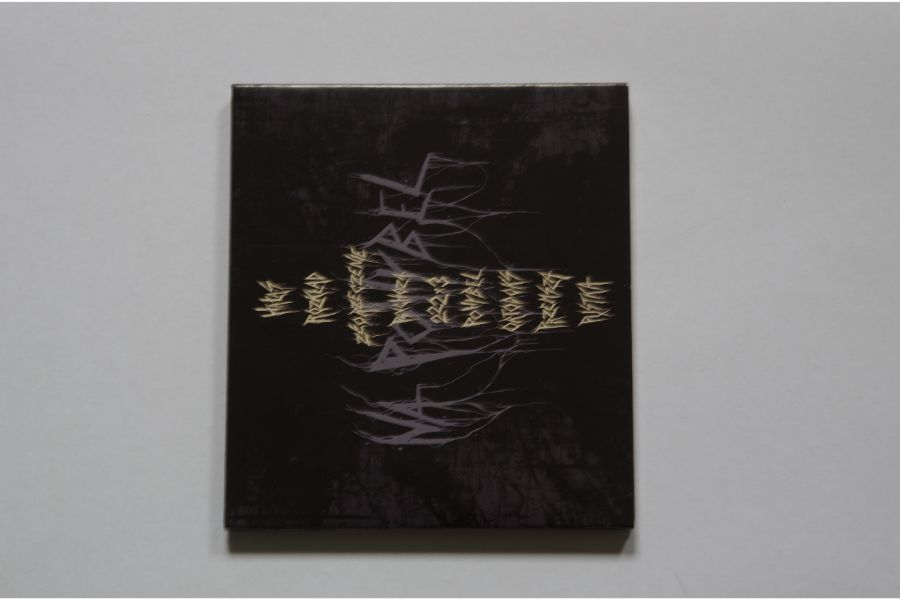album: (223, 80, 640, 534)
